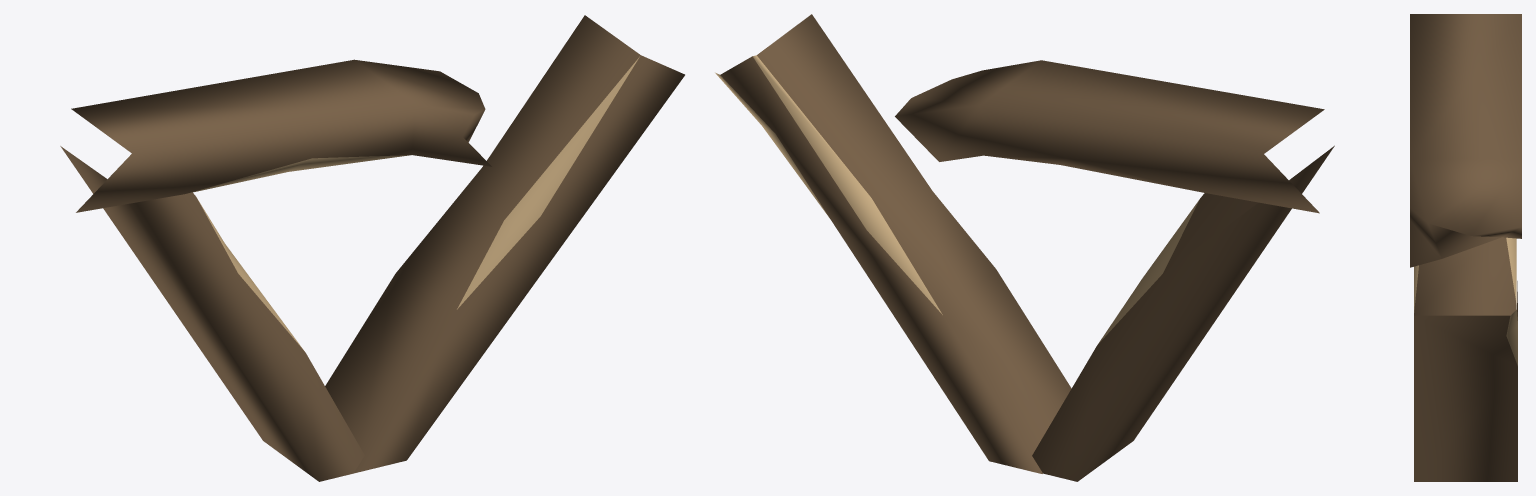
File: rpgpp_av_roof_end_01_6x3_wall_beam_d.gltf
3 views of the same model, side by side, from view 1: azimuth 30°, elevation 25°; view 2: azimuth 150°, elevation 25°; view 3: azimuth 270°, elevation 25° (orthographic). The views are drawn at different scales.
Parts seen in each view (by area): view 1: rpgpp_av_roof_end_01_6x3_wall_beam_d; view 2: rpgpp_av_roof_end_01_6x3_wall_beam_d; view 3: rpgpp_av_roof_end_01_6x3_wall_beam_d.
Boxes of the visible parts, x1=… form: rpgpp_av_roof_end_01_6x3_wall_beam_d: x1=60, y1=15, x2=684, y2=481; rpgpp_av_roof_end_01_6x3_wall_beam_d: x1=715, y1=14, x2=1334, y2=481; rpgpp_av_roof_end_01_6x3_wall_beam_d: x1=1410, y1=14, x2=1521, y2=481.
Bounding box in the file's own units: 0.0325 × 0.0191 × 0.00562.
Materials: 1 (1 with a texture image).
